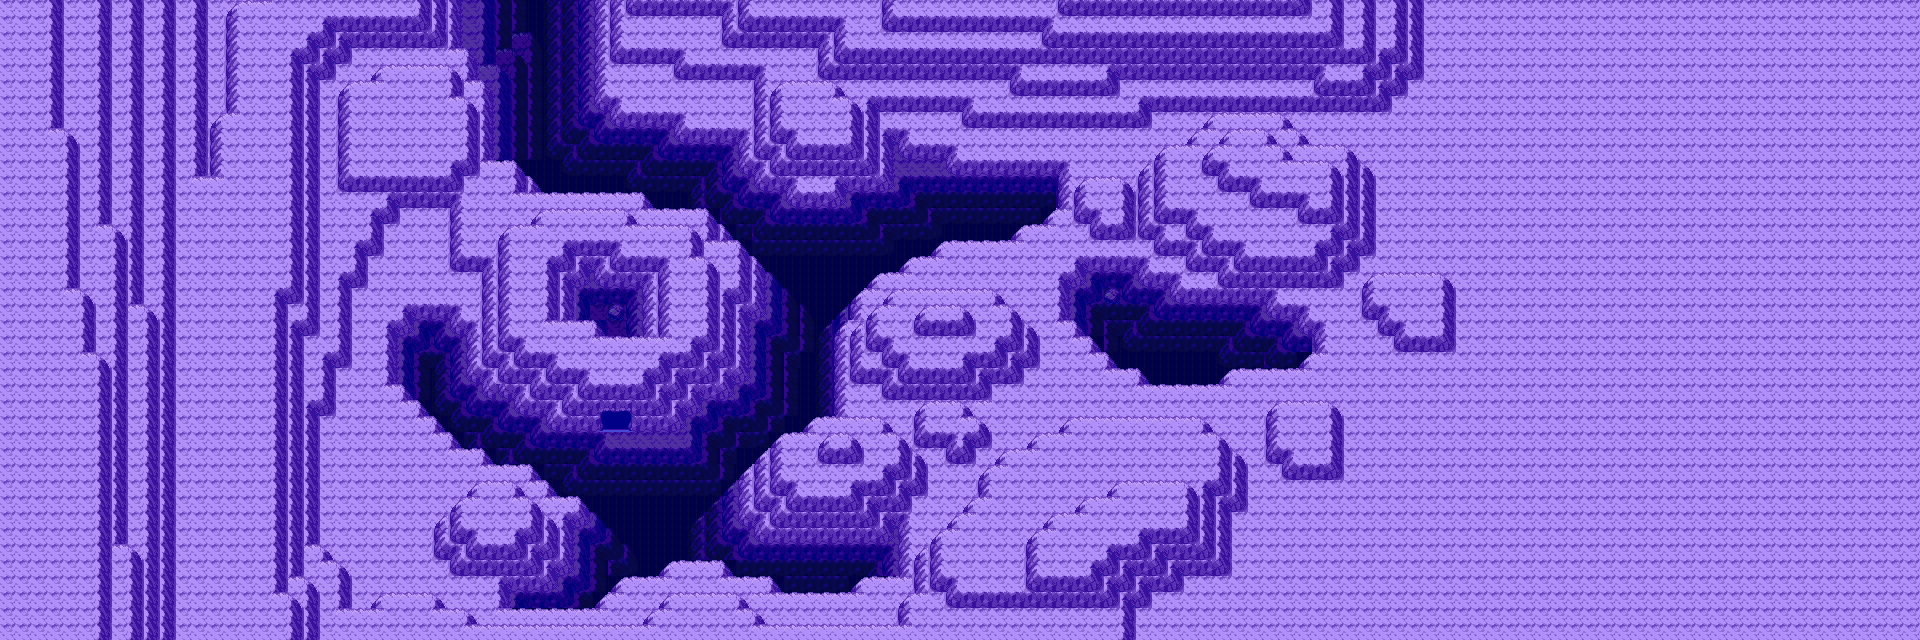cave: (572, 392, 661, 436)
